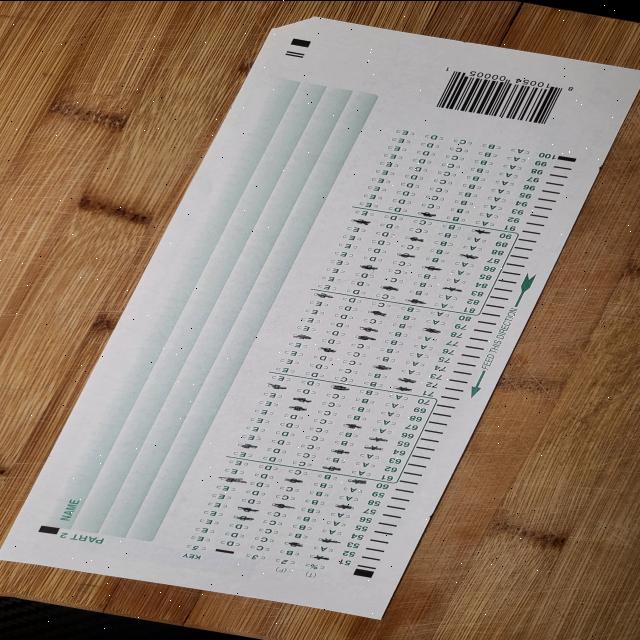scantron_back: (0, 16, 640, 618)
